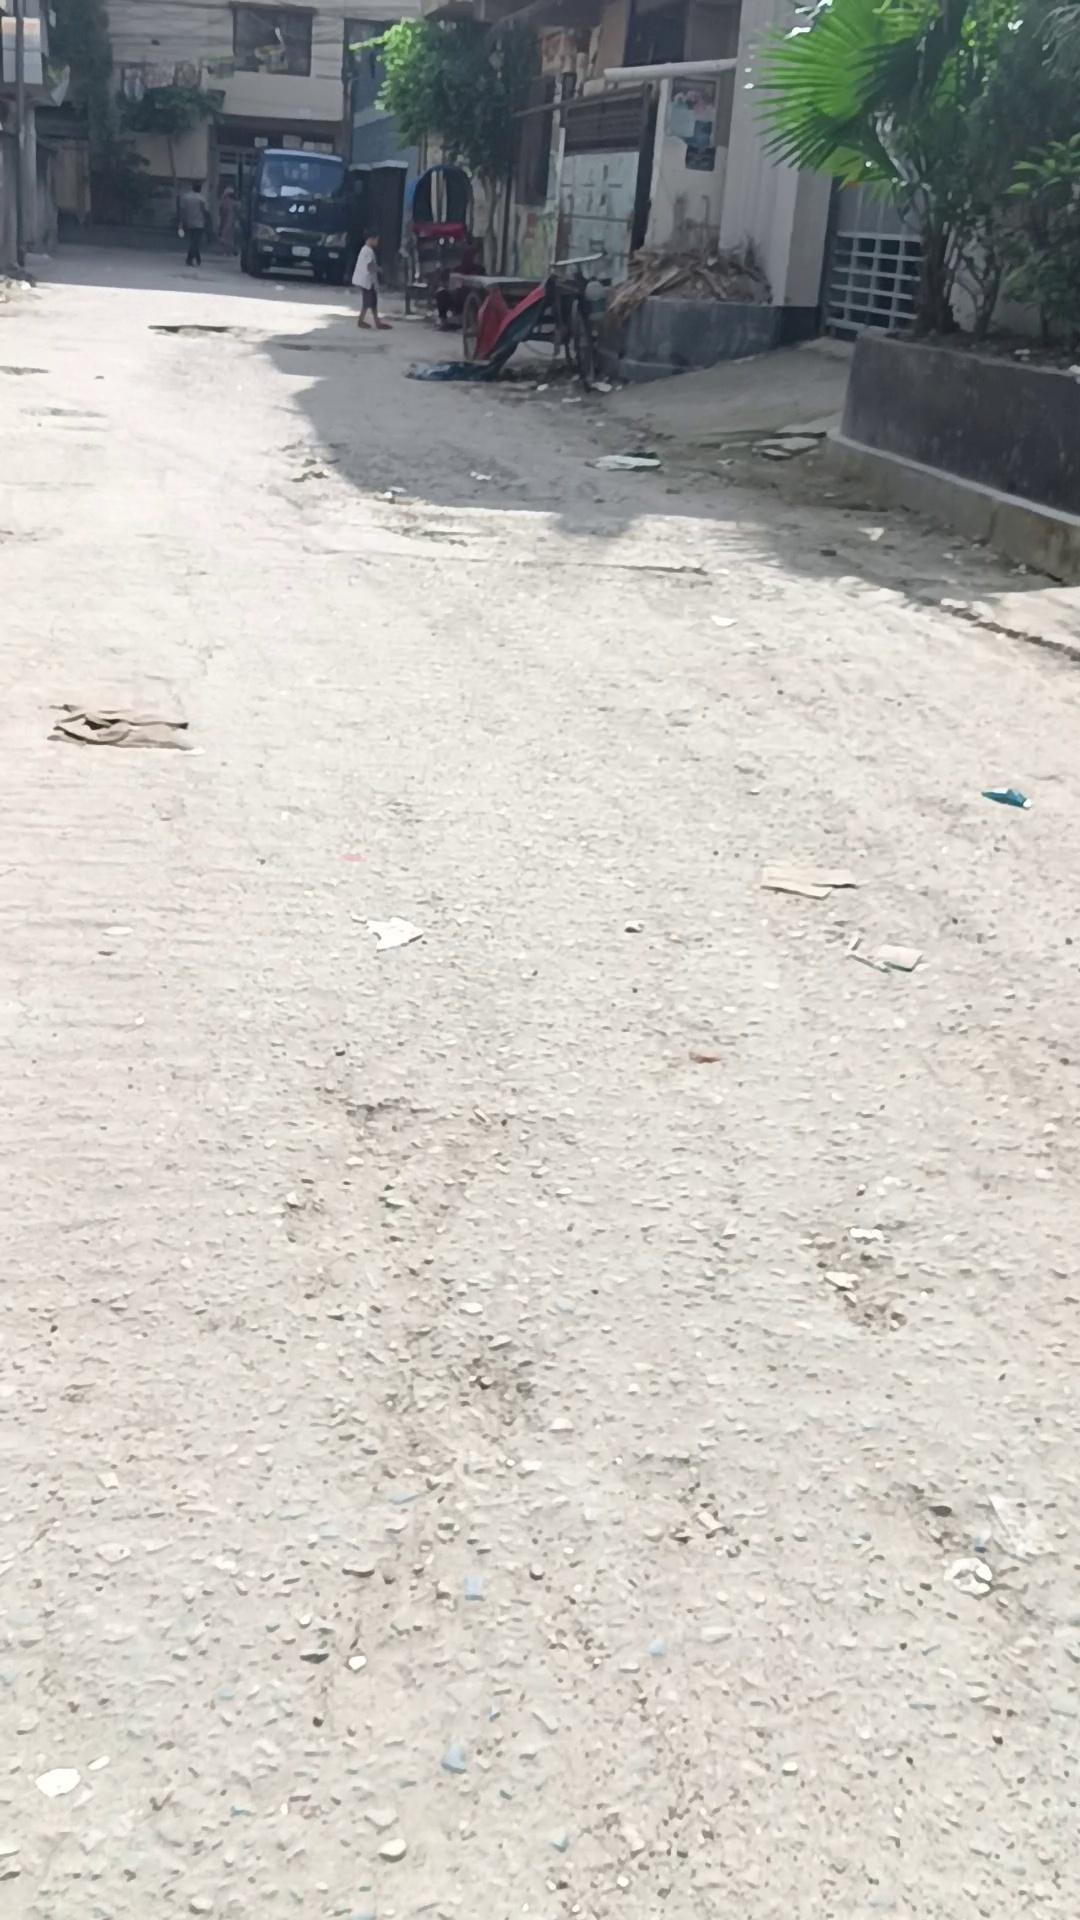Crosswalk: (822, 323, 1077, 585)
Muddy road: (349, 231, 392, 328), (175, 179, 211, 266), (218, 185, 239, 256)
Pothole: (450, 251, 608, 385), (401, 164, 491, 324)
Traffic-sign: (236, 146, 352, 284)
